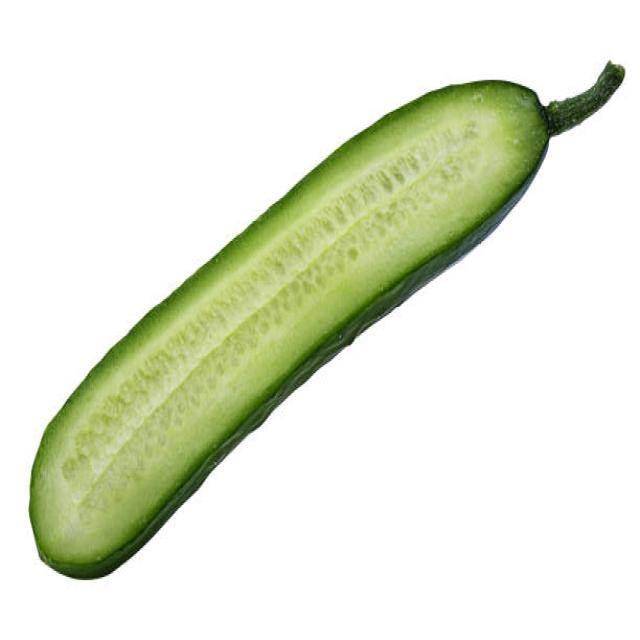cucumber: (28, 77, 546, 582)
